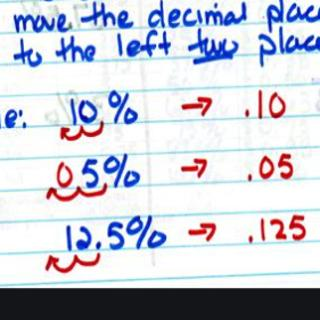.: (243, 104, 252, 120), (247, 233, 255, 249), (242, 172, 253, 183)
0: (266, 86, 287, 122), (255, 152, 276, 184), (78, 97, 98, 125)
1: (63, 96, 78, 127), (255, 85, 265, 122), (258, 215, 268, 246)
2: (267, 212, 287, 244)
5: (274, 147, 298, 185), (287, 211, 306, 244)
